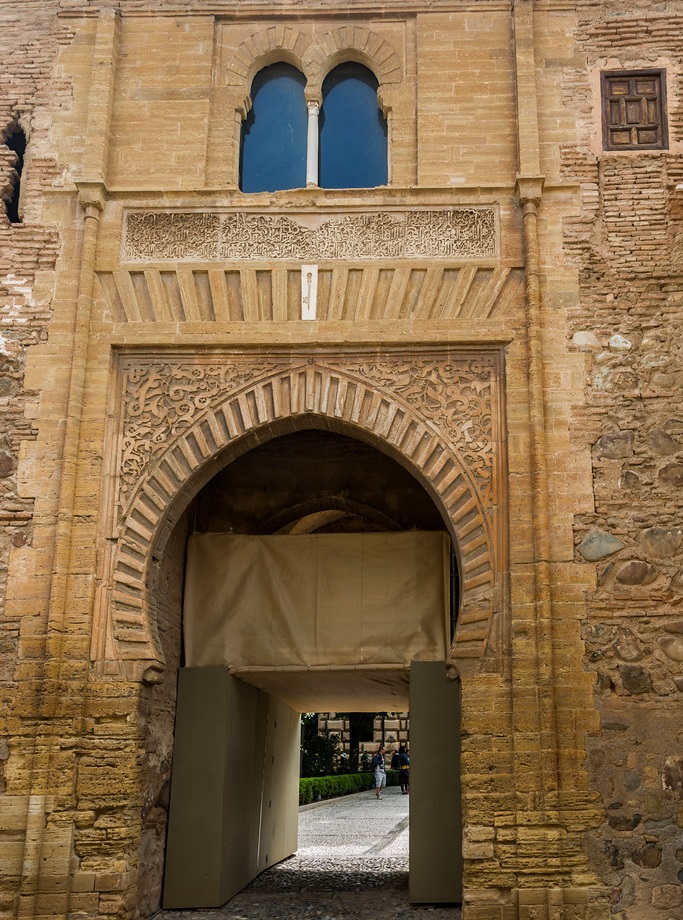arco-herradura: (123, 397, 480, 701), (315, 44, 394, 115), (237, 42, 313, 113)
dintel-adovelado: (87, 262, 530, 332)
